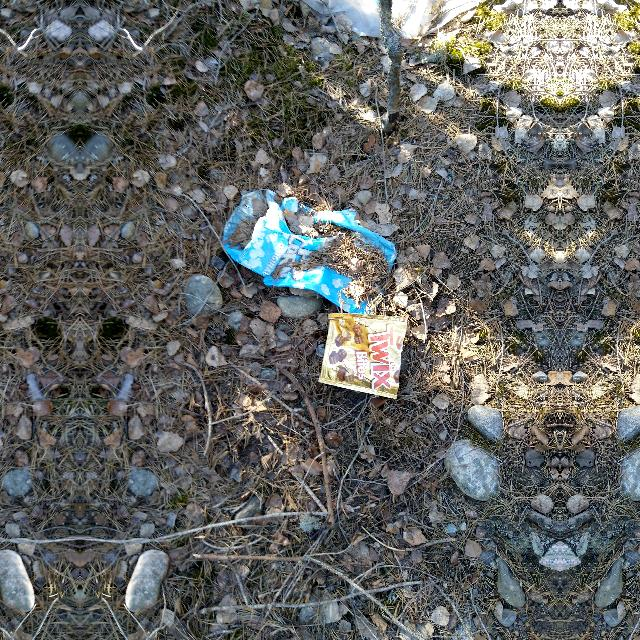Cardboard: (214, 184, 406, 322)
Plastic: (314, 304, 412, 402)
